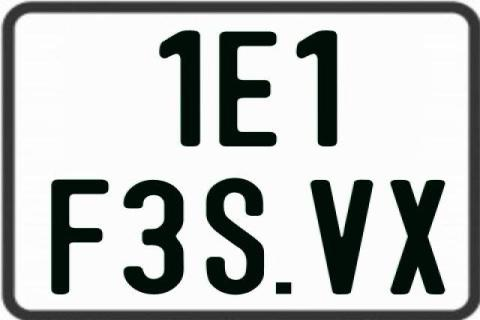0: (123, 178, 186, 292), (157, 30, 203, 148), (295, 31, 339, 147)
E: (218, 29, 280, 148)
F: (48, 179, 109, 295)
S: (205, 177, 267, 297)
V: (309, 178, 377, 298)
X: (390, 177, 449, 297)
